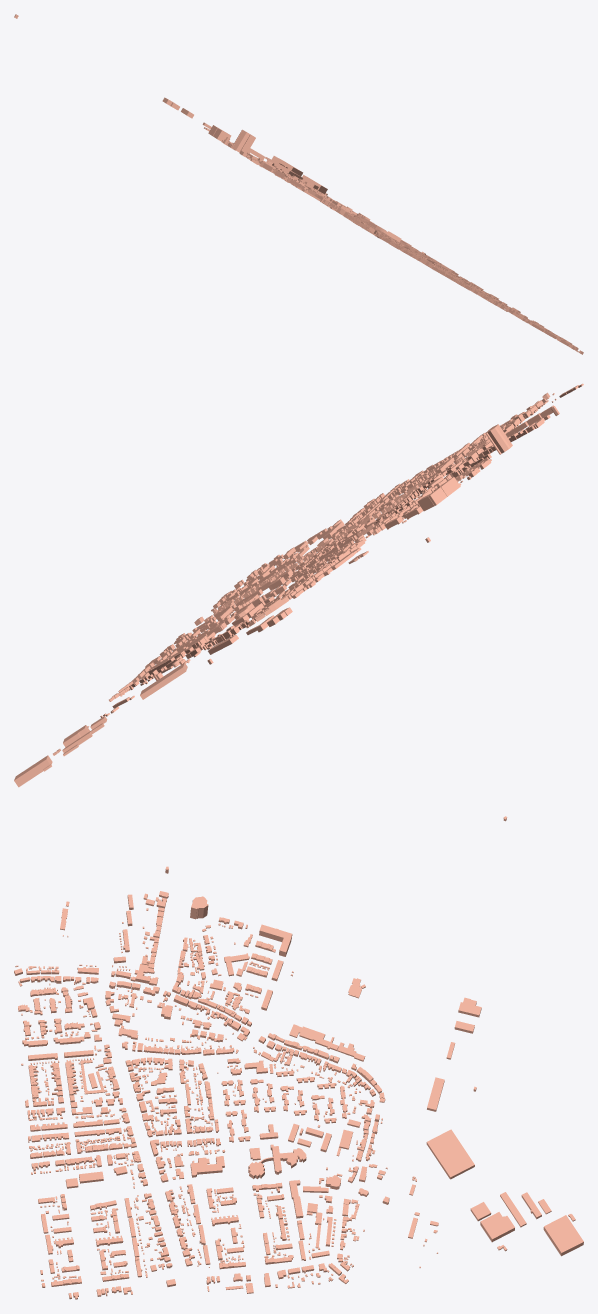
3 renders of one model, top to bottom at view 1: azimuth 30°, elevation 25°; view 2: azimuth 150°, elevation 25°; view 3: azimuth 270°, elevation 25°, orthographic. The views are drawn at different scales.
Size of the model in its own units: 936 by 682 by 1190.
